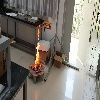fire: (32, 24, 42, 70)
